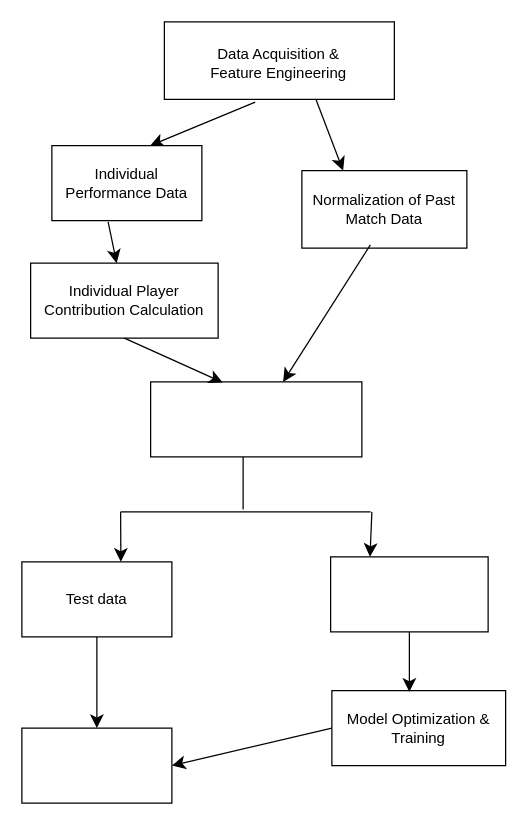
Some shapes in this 528 by 825 pixel diagram are drawn without their labels. The shapes that lost their labels are listed below. From the top down, each one's centre as x and y in pixels, then its label:
point 255,419: Dataset Construction & Preprocessing
point 408,594: Train data
point 96,765: Model Evaluation
